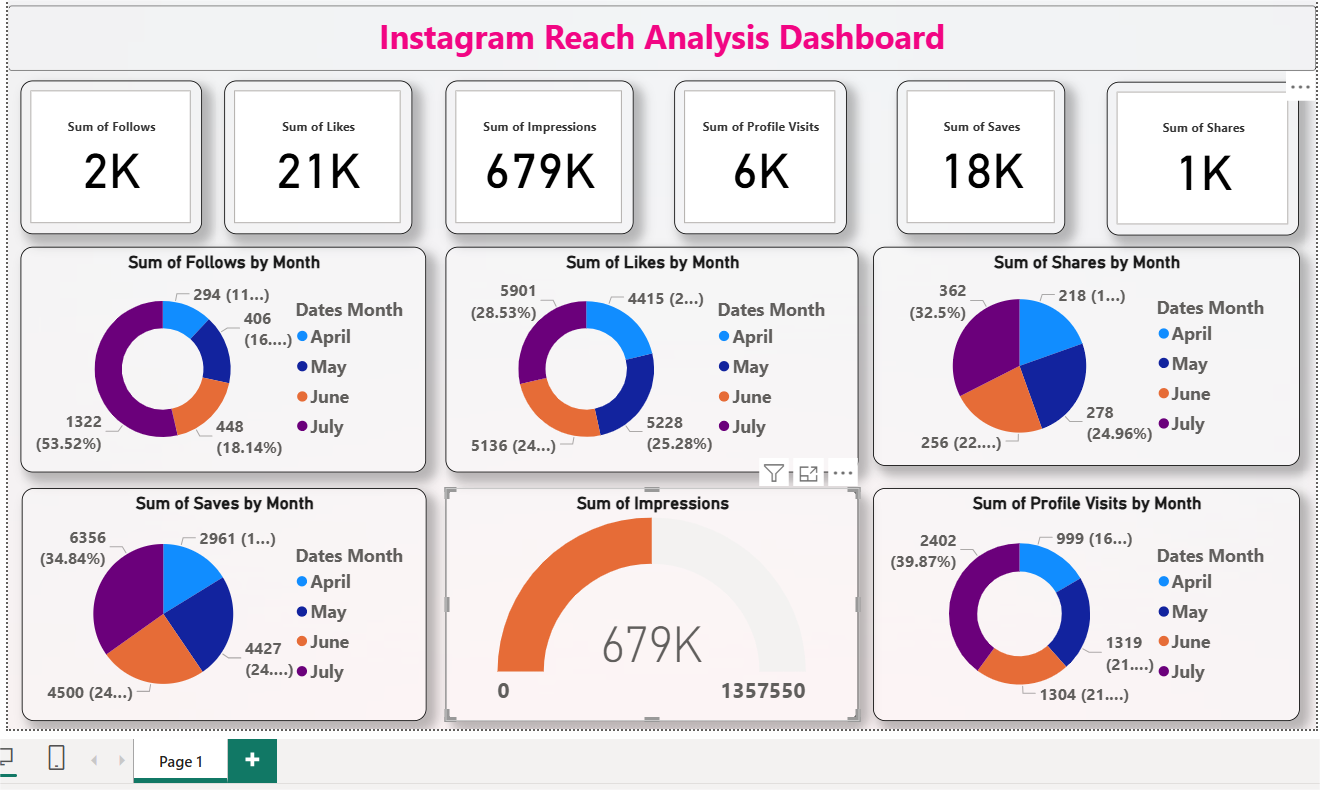

This screenshot's page, from the dashboard's own definition file:
{"tool":"powerbi","page":{"name":"Page 1","canvas":[1280,720],"ordinal":0},"visuals":[{"type":"cardVisual","fields":{"Data":["Sum(Instagram Dataset.Likes)"]},"box":[211.6,86,183.7,150],"z":0},{"type":"cardVisual","fields":{"Data":["Sum(Instagram Dataset.Impressions)"]},"box":[427.9,86,183.7,150],"z":1},{"type":"cardVisual","fields":{"Data":["Sum(Instagram Dataset.Follows)"]},"box":[12.8,86,177.9,150],"z":2},{"type":"cardVisual","fields":{"Data":["Sum(Instagram Dataset.Profile Visits)"]},"box":[652.3,86,168.6,150],"z":3},{"type":"cardVisual","fields":{"Data":["Sum(Instagram Dataset.Saves)"]},"box":[869.8,86,165.1,150],"z":4},{"type":"cardVisual","fields":{"Data":["Sum(Instagram Dataset.Shares)"]},"box":[1074.4,87.2,188.4,150],"z":5},{"type":"donutChart","fields":{"Category":["Instagram Dataset.Dates.Variation.Date Hierarchy.Month"],"Y":["Sum(Instagram Dataset.Follows)"]},"box":[12.1,248.5,396.9,220.8],"z":6},{"type":"donutChart","fields":{"Category":["Instagram Dataset.Dates.Variation.Date Hierarchy.Month"],"Y":["Sum(Instagram Dataset.Likes)"]},"box":[428.3,248.5,404.2,220.8],"z":7},{"type":"gauge","fields":{"Y":["Sum(Instagram Dataset.Impressions)"]},"box":[428.3,483.8,404.2,228],"z":8},{"type":"donutChart","fields":{"Category":["Instagram Dataset.Dates.Variation.Date Hierarchy.Month"],"Y":["Sum(Instagram Dataset.Profile Visits)"]},"box":[845.7,483.8,417.4,228],"z":9},{"type":"pieChart","fields":{"Category":["Instagram Dataset.Dates.Variation.Date Hierarchy.Month"],"Y":["Sum(Instagram Dataset.Saves)"]},"box":[13.3,483.8,395.7,228],"z":10},{"type":"pieChart","fields":{"Category":["Instagram Dataset.Dates.Variation.Date Hierarchy.Month"],"Y":["Sum(Instagram Dataset.Shares)"]},"box":[845.7,248.5,417.4,214.7],"z":11},{"type":"textbox","box":[0,12.1,1280,63.9],"z":12}]}

Visuals, with their boxes in screenshot pixels (x1, y1, x2, y2):
cardVisual - Sum(Instagram Dataset.Likes): [222, 81, 409, 233]
cardVisual - Sum(Instagram Dataset.Impressions): [442, 81, 629, 233]
cardVisual - Sum(Instagram Dataset.Follows): [20, 81, 201, 233]
cardVisual - Sum(Instagram Dataset.Profile Visits): [670, 81, 842, 233]
cardVisual - Sum(Instagram Dataset.Saves): [891, 81, 1059, 233]
cardVisual - Sum(Instagram Dataset.Shares): [1100, 82, 1291, 234]
donutChart - Instagram Dataset.Dates.Variation.Date Hierarchy.Month x Sum(Instagram Dataset.Follows): [19, 246, 423, 470]
donutChart - Instagram Dataset.Dates.Variation.Date Hierarchy.Month x Sum(Instagram Dataset.Likes): [442, 246, 854, 470]
gauge - Sum(Instagram Dataset.Impressions): [442, 485, 854, 717]
donutChart - Instagram Dataset.Dates.Variation.Date Hierarchy.Month x Sum(Instagram Dataset.Profile Visits): [867, 485, 1291, 717]
pieChart - Instagram Dataset.Dates.Variation.Date Hierarchy.Month x Sum(Instagram Dataset.Saves): [20, 485, 423, 717]
pieChart - Instagram Dataset.Dates.Variation.Date Hierarchy.Month x Sum(Instagram Dataset.Shares): [867, 246, 1291, 464]
textbox: [7, 5, 1309, 70]
